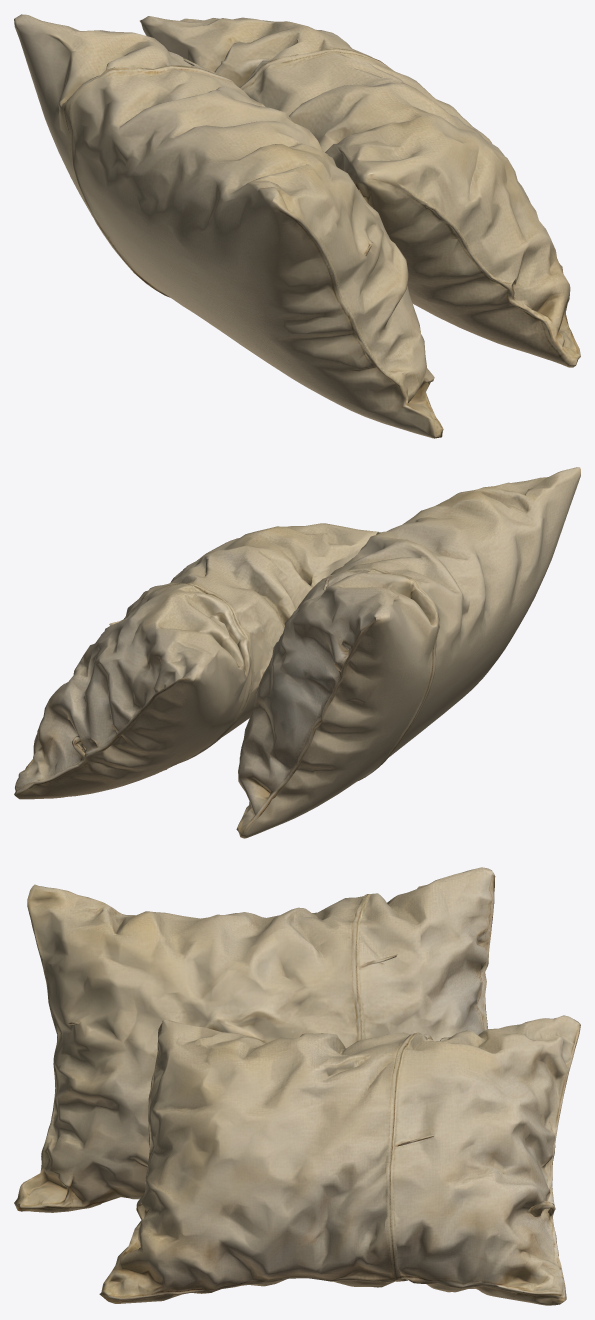
File: scene-pillow-pair-v03.glb
The picture shows the model from 3 angles, top to bottom: view 1: azimuth 30°, elevation 25°; view 2: azimuth 150°, elevation 25°; view 3: azimuth 270°, elevation 25°; orthographic projection. The views are drawn at different scales.
Parts seen in each view (by area): view 1: tripo_node_c54aaedb-fa05-4c44-b2b6-99c6598407a8; view 2: tripo_node_c54aaedb-fa05-4c44-b2b6-99c6598407a8; view 3: tripo_node_c54aaedb-fa05-4c44-b2b6-99c6598407a8.
Part boxes in pixels (left/top/right/bottom): tripo_node_c54aaedb-fa05-4c44-b2b6-99c6598407a8: left=14, top=14, right=580, bottom=438; tripo_node_c54aaedb-fa05-4c44-b2b6-99c6598407a8: left=14, top=467, right=580, bottom=838; tripo_node_c54aaedb-fa05-4c44-b2b6-99c6598407a8: left=14, top=867, right=580, bottom=1305.
Bounding box in the file's own units: 0.3465 × 0.24 × 0.4475.
Materials: 1 (1 with a texture image).
